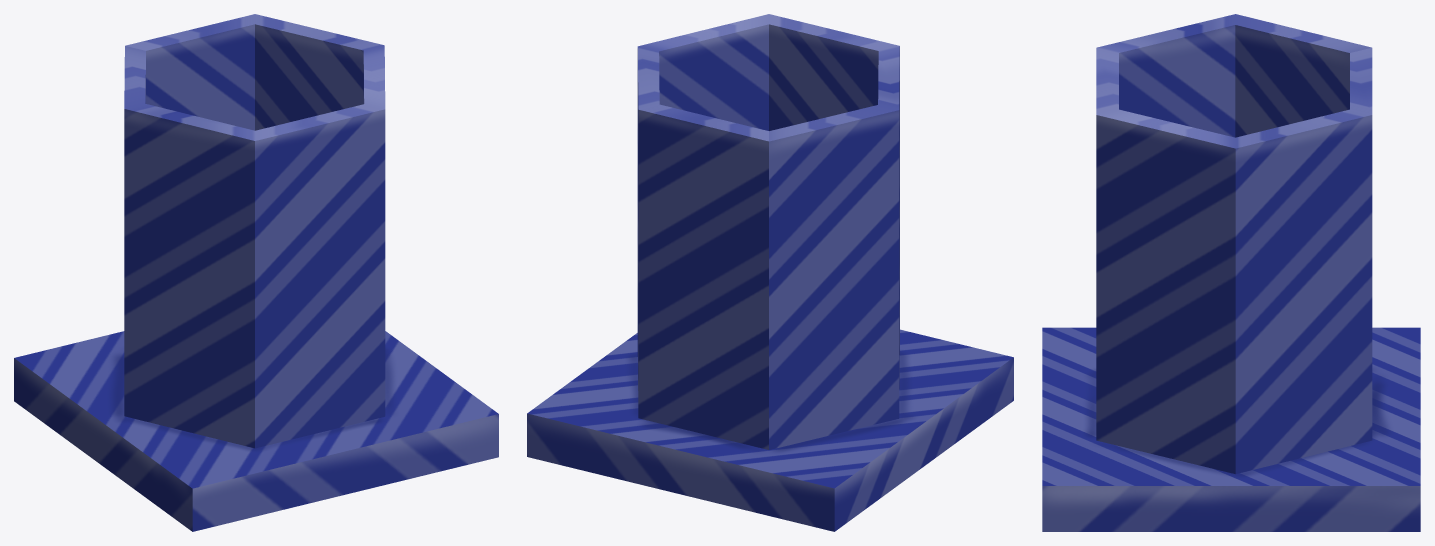
The model's file is temochihanabi.fbx.
The picture shows the model from 3 angles, left to right: view 1: azimuth 30°, elevation 25°; view 2: azimuth 150°, elevation 25°; view 3: azimuth 270°, elevation 25°; orthographic projection. The views are drawn at different scales.
Visible parts, largest first — view 1: pCylinder1; view 2: pCylinder1; view 3: pCylinder1.
Part boxes in pixels (x1,y1,x2,y2): pCylinder1: [14, 14, 498, 531]; pCylinder1: [527, 14, 1013, 531]; pCylinder1: [1042, 14, 1420, 531].
Size of the model in its own units: 1.99 by 2.18 by 2.01.
